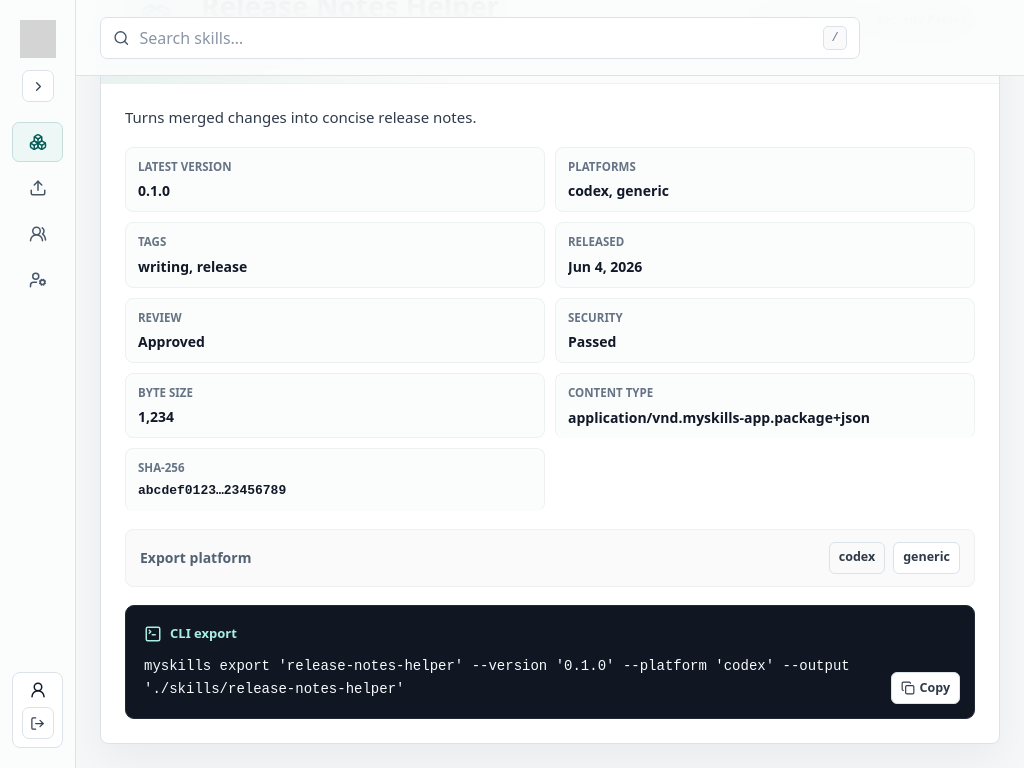
Scenario: platform selection changes CLI export guidance only
(page scrolled)
Expected: the text "myskills export 'release-notes-helper' --version '0.1.0' --platform 'codex'" is shown, x1=144 y1=658 x2=858 y2=697
Click the button "generic": (927, 558) x1=893 y1=542 x2=960 y2=574
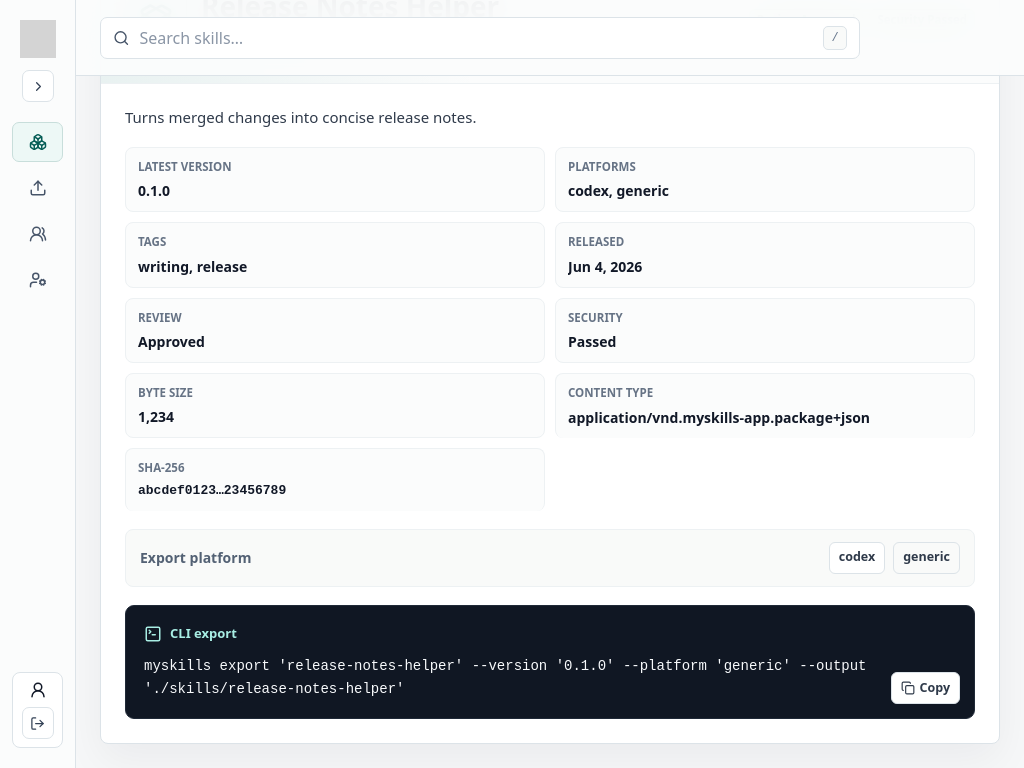
Expected: the text "myskills export 'release-notes-helper' --version '0.1.0' --platform 'generic'" is shown, x1=144 y1=658 x2=875 y2=697
